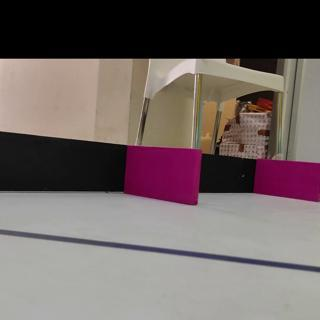xparking: (129, 150, 199, 198), (260, 162, 319, 194)
